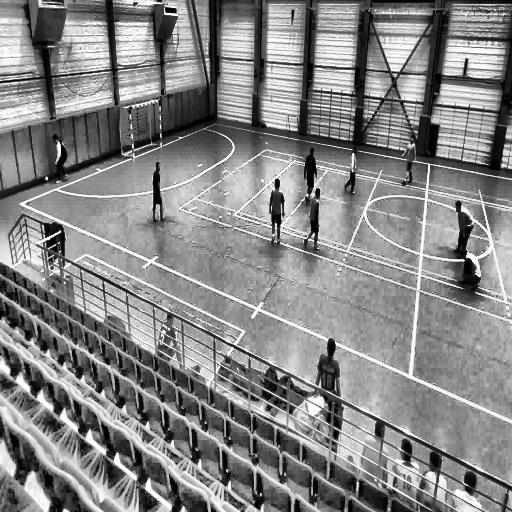ball: (44, 174, 49, 184)
player: (452, 198, 477, 264), (456, 248, 482, 298), (303, 185, 321, 252), (269, 176, 285, 248), (151, 160, 167, 225), (51, 132, 70, 186), (304, 143, 318, 206), (401, 132, 416, 188), (343, 146, 358, 198)
